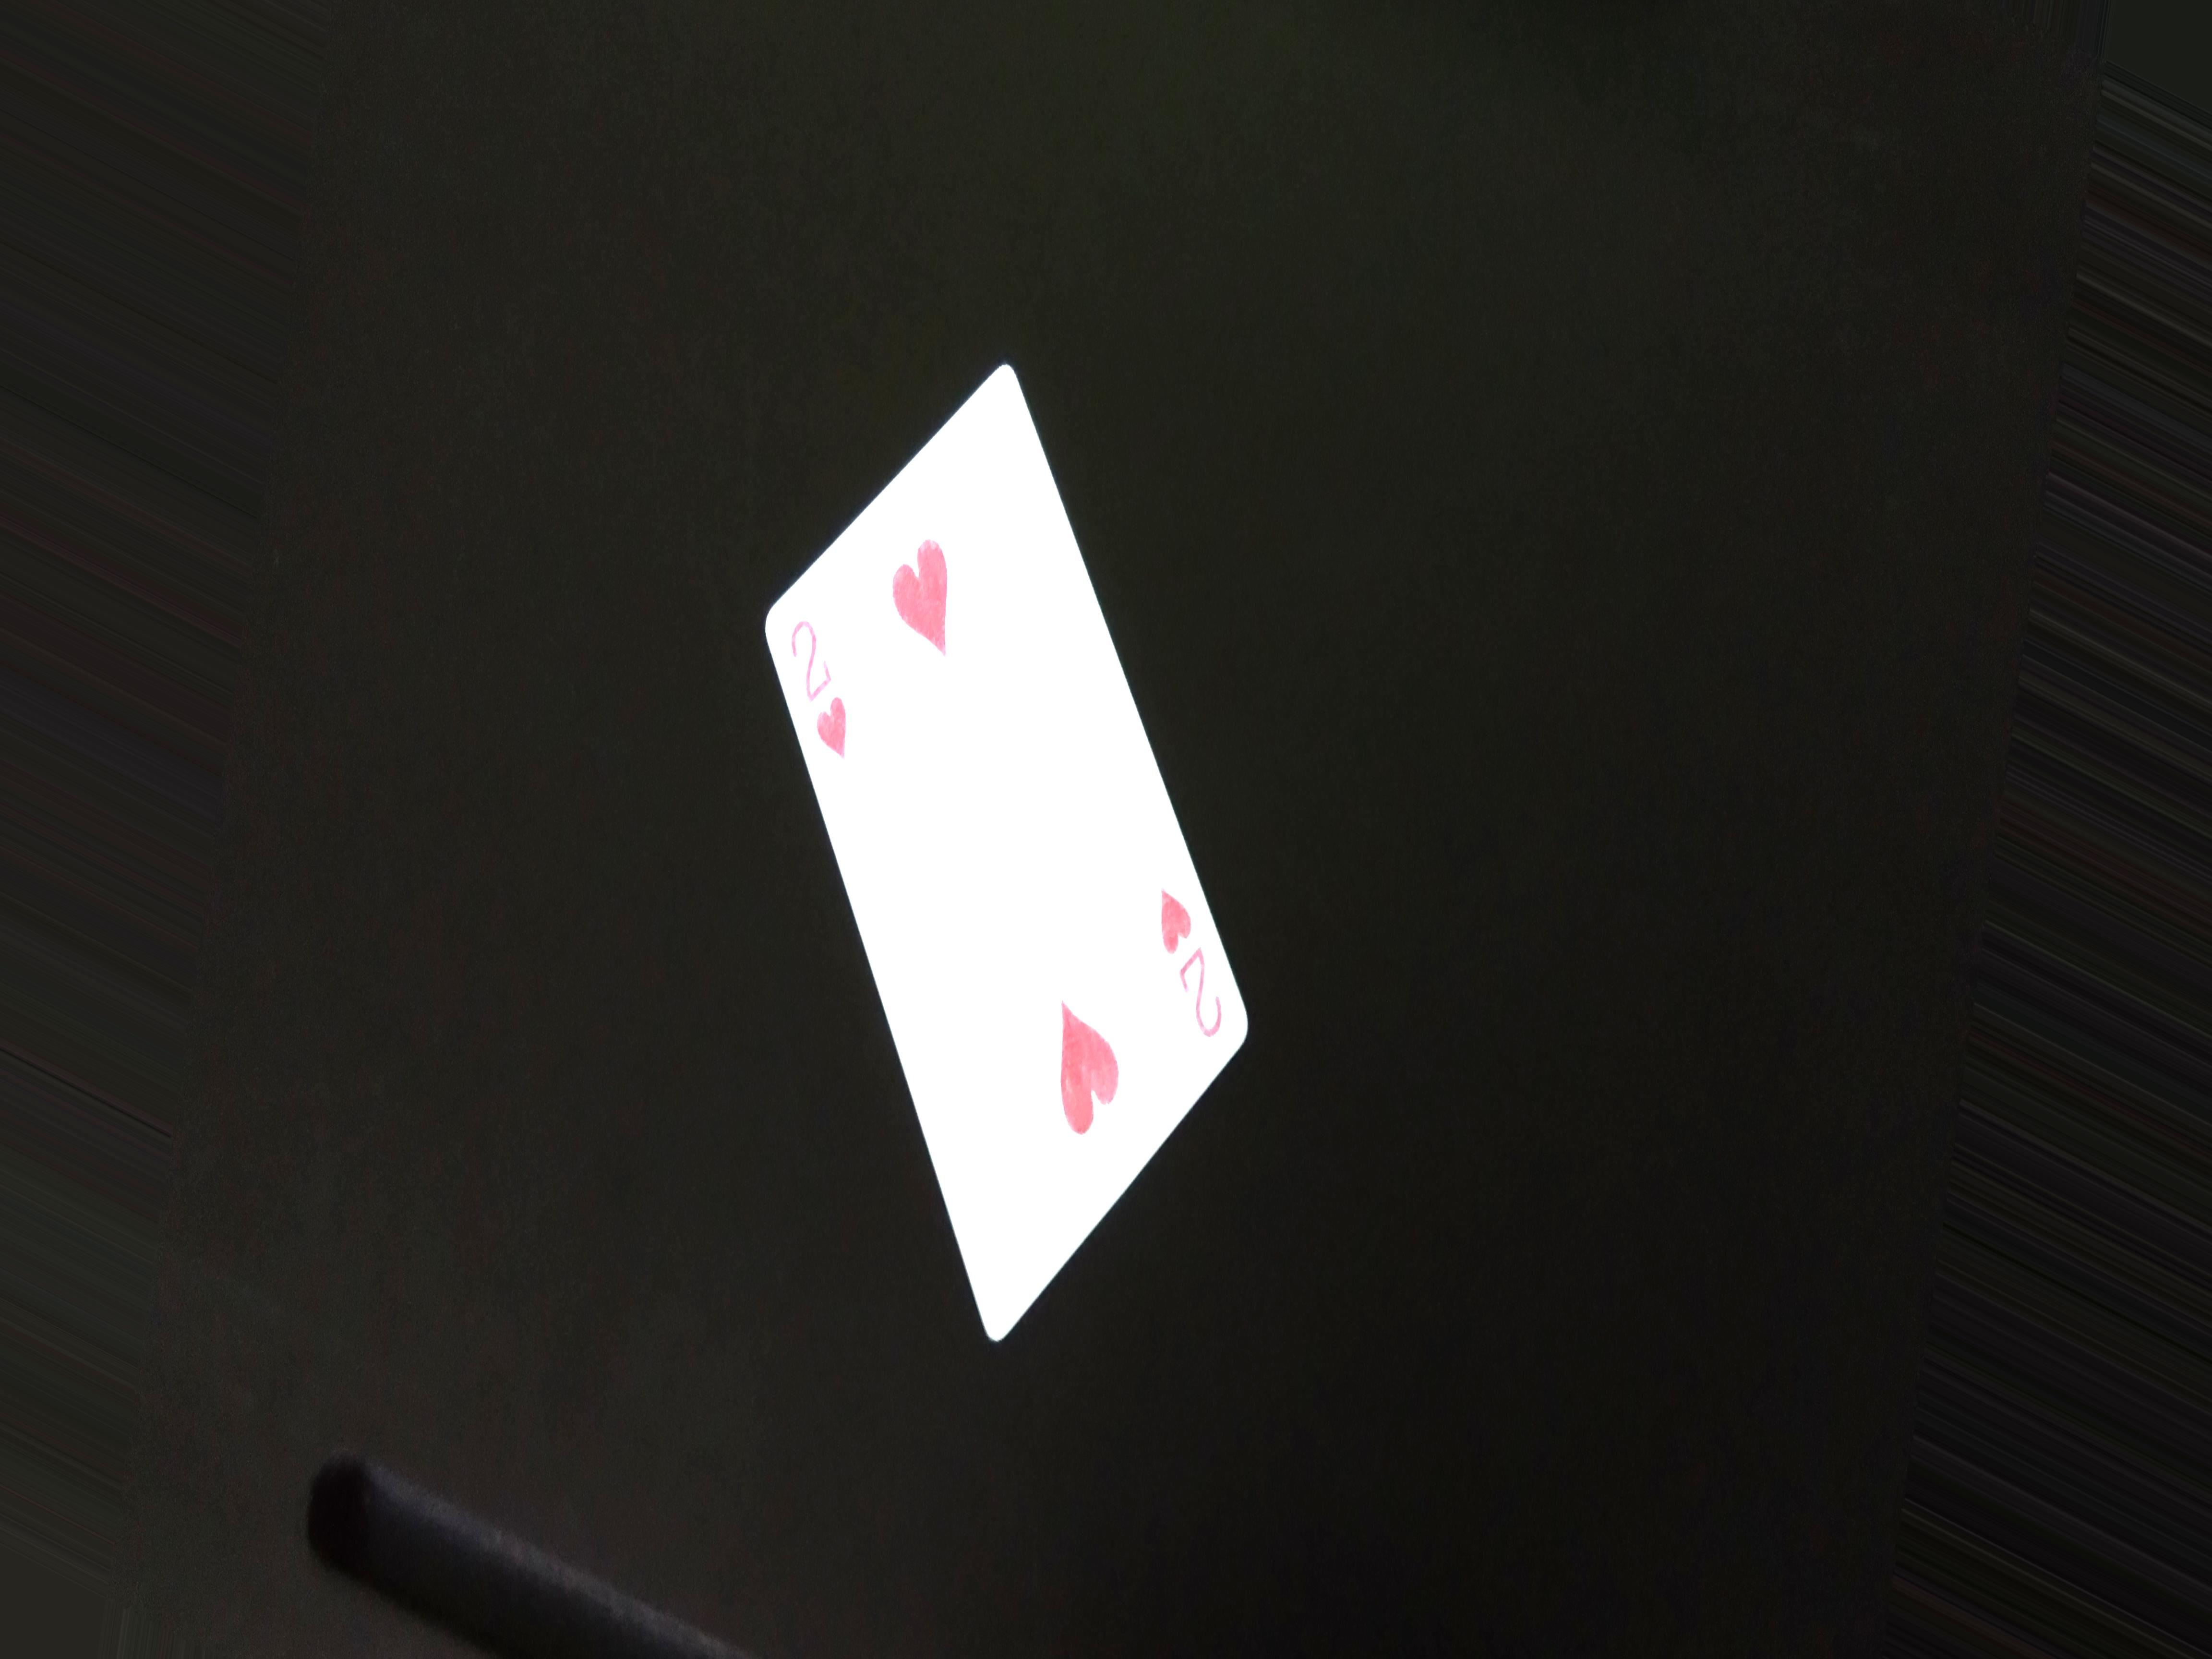2H: (1137, 878, 1244, 1042)
